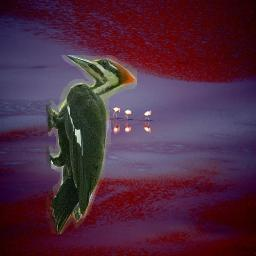Woodpecker: (46, 55, 137, 234)
